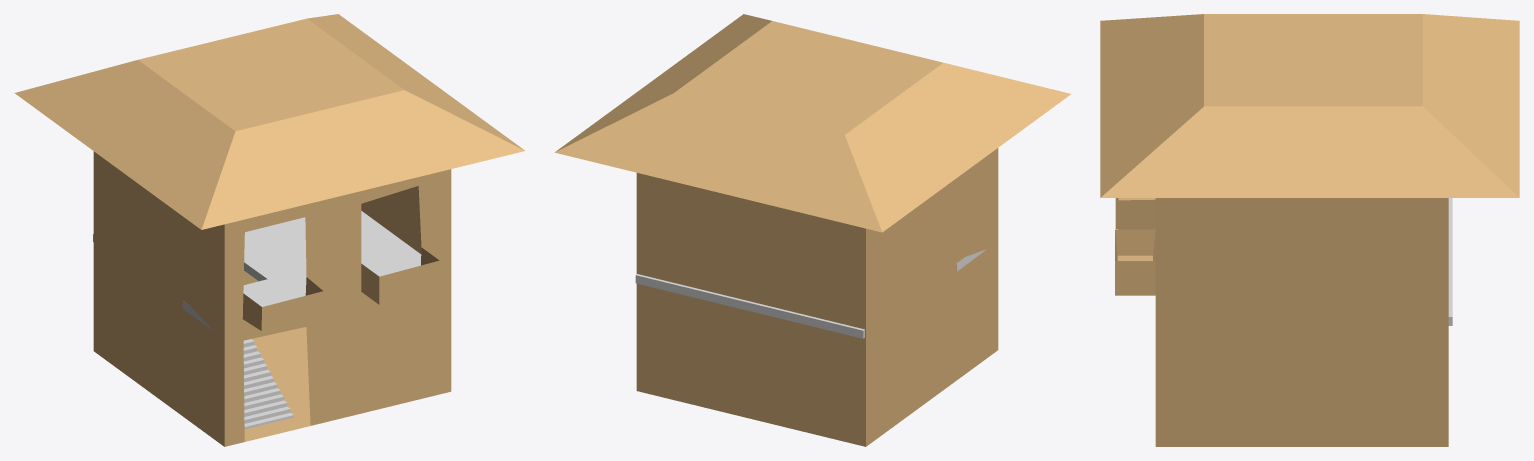
File: casa_6.glb
3 renders of one model, left to right at view 1: azimuth 30°, elevation 25°; view 2: azimuth 150°, elevation 25°; view 3: azimuth 270°, elevation 25°, orthographic. The views are drawn at different scales.
Visible parts, largest first — view 1: Cube, Cube.002, Cube.001; view 2: Cube, Cube.002; view 3: Cube, Cube.002.
Part boxes in pixels (x1,y1,x2,y2): Cube: (14, 14, 524, 446); Cube.002: (93, 211, 421, 330); Cube.001: (243, 339, 293, 429); Cube: (554, 14, 1070, 446); Cube.002: (635, 249, 986, 338); Cube: (1100, 14, 1519, 446); Cube.002: (1448, 198, 1452, 325).
Size of what is drawn, in the model's own units: 27.25 by 23.45 by 27.25.
